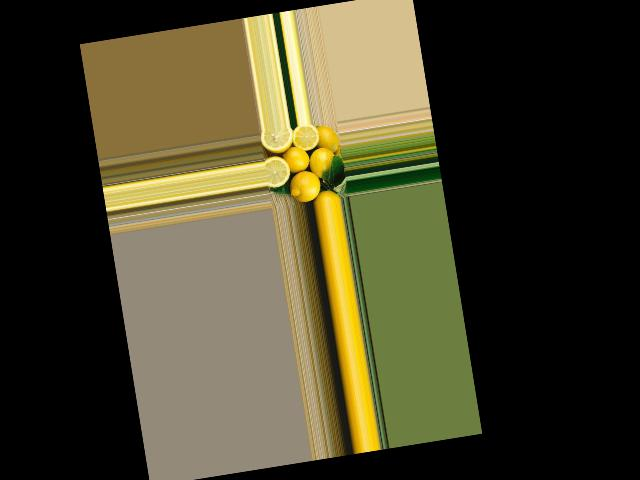lemon: (314, 123, 340, 155)
